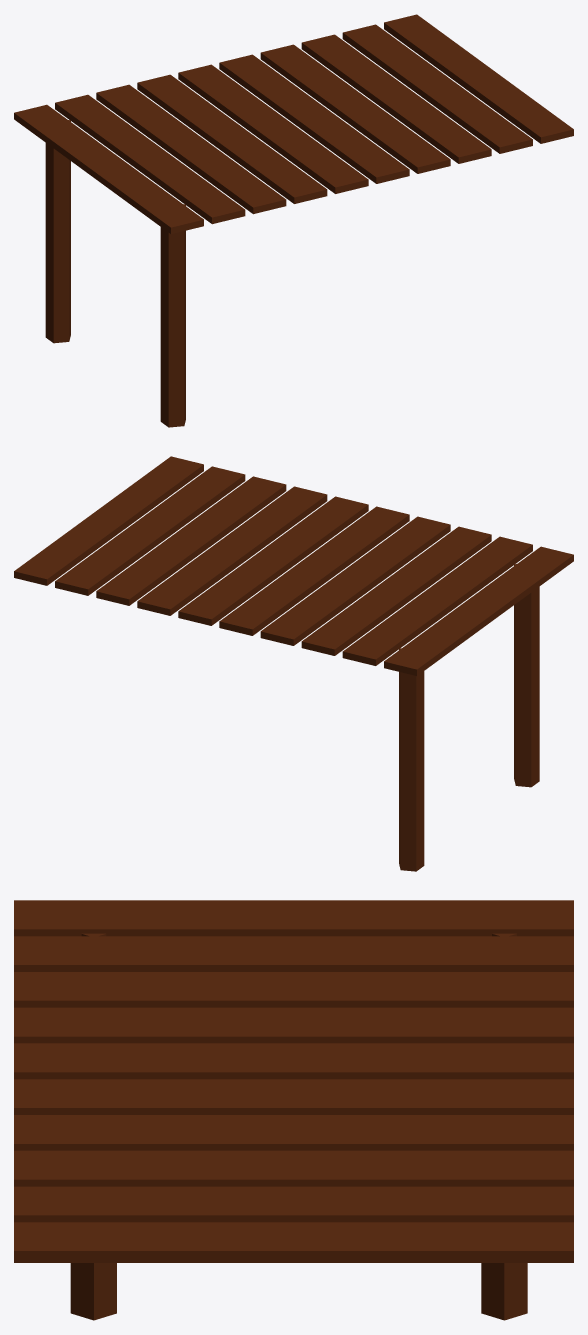
Rendered from pont.glb.
The picture shows the model from 3 angles, top to bottom: view 1: azimuth 30°, elevation 25°; view 2: azimuth 150°, elevation 25°; view 3: azimuth 270°, elevation 25°; orthographic projection. The views are drawn at different scales.
Visible parts, largest first — view 1: pCube36, pCube39, pCube34, pCube37, pCube38, pCube35, pCube40, pCube33, pCube41, pCube5, pCylinder40, pCylinder39; view 2: pCube37, pCube40, pCube33, pCube34, pCube35, pCube36, pCube38, pCube39, pCube5, pCube41, pCylinder39, pCylinder40; view 3: pCube5, pCube33, pCube34, pCube37, pCube38, pCube41, pCube35, pCube36, pCube39, pCube40, pCylinder39, pCylinder40.
Part boxes in pixels (x1=…): pCube36: x1=219, y1=54, x2=409, y2=183; pCube39: x1=96, y1=84, x2=286, y2=214; pCube34: x1=301, y1=34, x2=491, y2=163; pCube37: x1=178, y1=64, x2=368, y2=193; pCube38: x1=137, y1=74, x2=327, y2=203; pCube35: x1=260, y1=44, x2=450, y2=173; pCube40: x1=55, y1=94, x2=245, y2=224; pCube33: x1=342, y1=24, x2=532, y2=153; pCube41: x1=14, y1=104, x2=203, y2=234; pCube5: x1=384, y1=14, x2=573, y2=143; pCylinder40: x1=160, y1=204, x2=185, y2=427; pCylinder39: x1=45, y1=120, x2=70, y2=343; pCube37: x1=219, y1=506, x2=409, y2=635; pCube40: x1=342, y1=536, x2=532, y2=665; pCube33: x1=55, y1=466, x2=245, y2=595; pCube34: x1=96, y1=476, x2=286, y2=605; pCube35: x1=137, y1=486, x2=327, y2=615; pCube36: x1=178, y1=496, x2=368, y2=625; pCube38: x1=260, y1=516, x2=450, y2=645; pCube39: x1=301, y1=526, x2=491, y2=655; pCube5: x1=14, y1=456, x2=203, y2=585; pCube41: x1=384, y1=546, x2=573, y2=675; pCylinder39: x1=399, y1=648, x2=424, y2=871; pCylinder40: x1=514, y1=564, x2=539, y2=787; pCube5: x1=14, y1=1222, x2=573, y2=1262; pCube33: x1=14, y1=1186, x2=573, y2=1222; pCube34: x1=14, y1=1150, x2=573, y2=1186; pCube37: x1=14, y1=1043, x2=573, y2=1079; pCube38: x1=14, y1=1007, x2=573, y2=1043; pCube41: x1=14, y1=900, x2=573, y2=936; pCube35: x1=14, y1=1115, x2=573, y2=1150; pCube36: x1=14, y1=1079, x2=573, y2=1114; pCube39: x1=14, y1=972, x2=573, y2=1007; pCube40: x1=14, y1=936, x2=573, y2=971; pCylinder39: x1=481, y1=933, x2=527, y2=1320; pCylinder40: x1=70, y1=933, x2=116, y2=1320.
Bounding box in the file's own units: 5.58 × 2.87 × 3.76.
